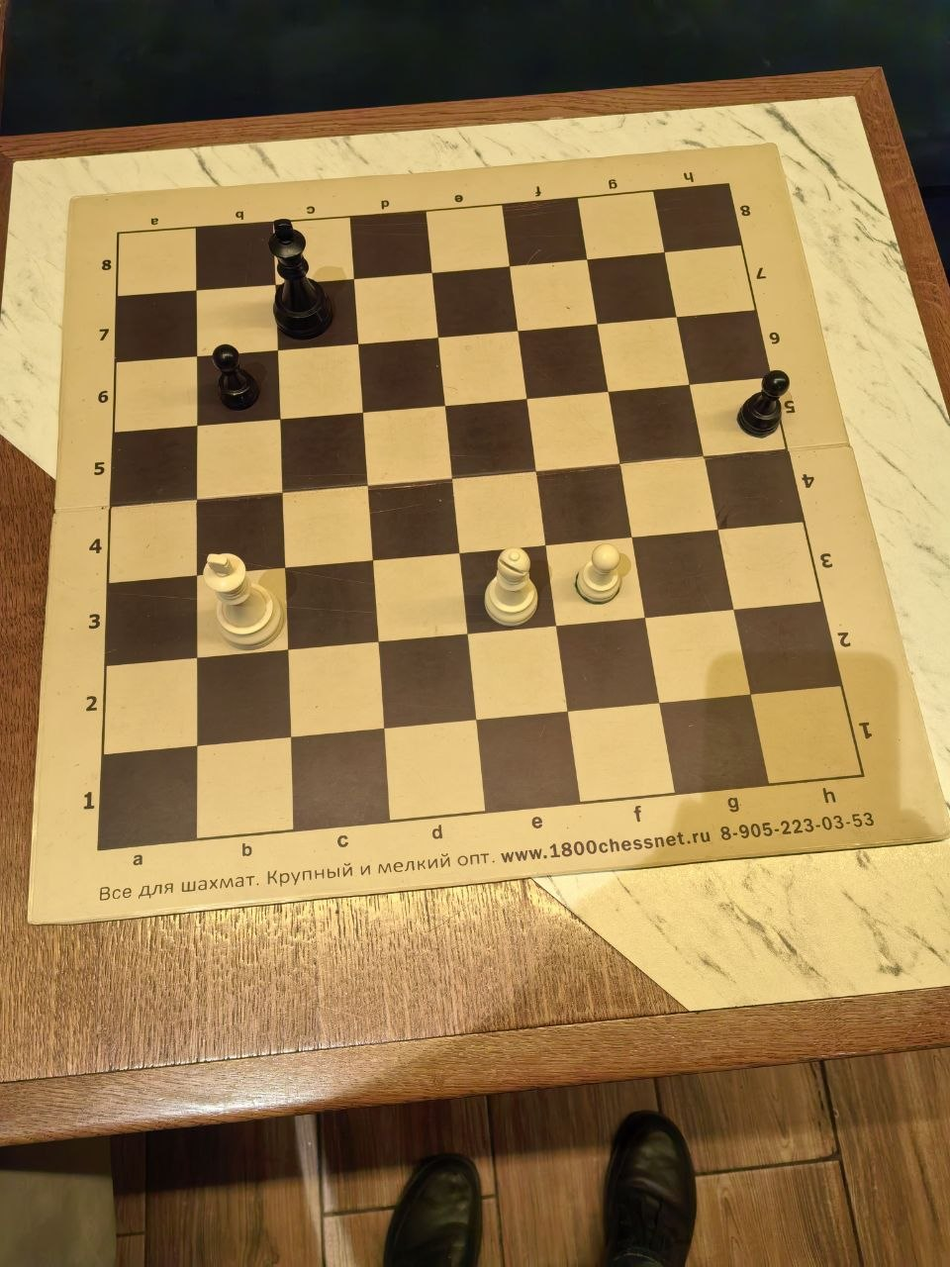black-bishop: (119, 792, 238, 950)
black-pawn: (475, 792, 594, 950)
black-rook: (594, 792, 712, 950)
white-bishop: (238, 158, 356, 317)
white-rook: (831, 475, 950, 634), (119, 317, 238, 475)
